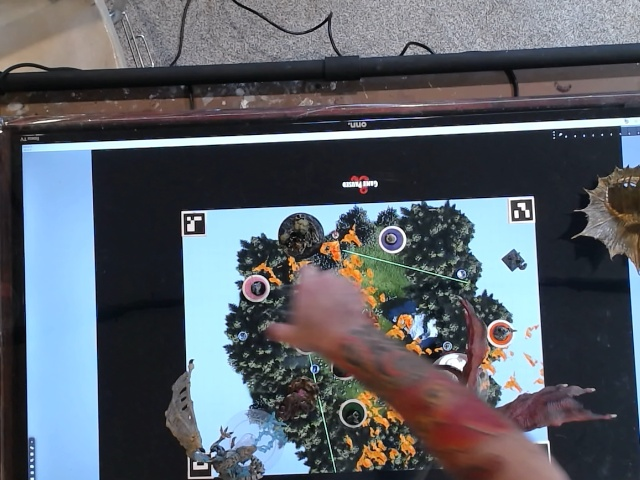green: (334, 390, 366, 430)
orange: (481, 310, 520, 350)
pink: (240, 273, 275, 304)
red: (324, 350, 359, 383)
violet: (377, 221, 407, 257)
